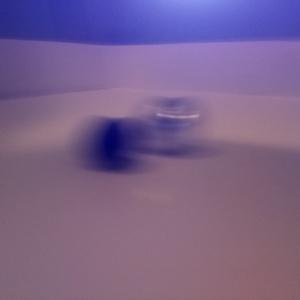alive_ball: (137, 98, 206, 154)
dead_ball: (82, 117, 148, 169)
